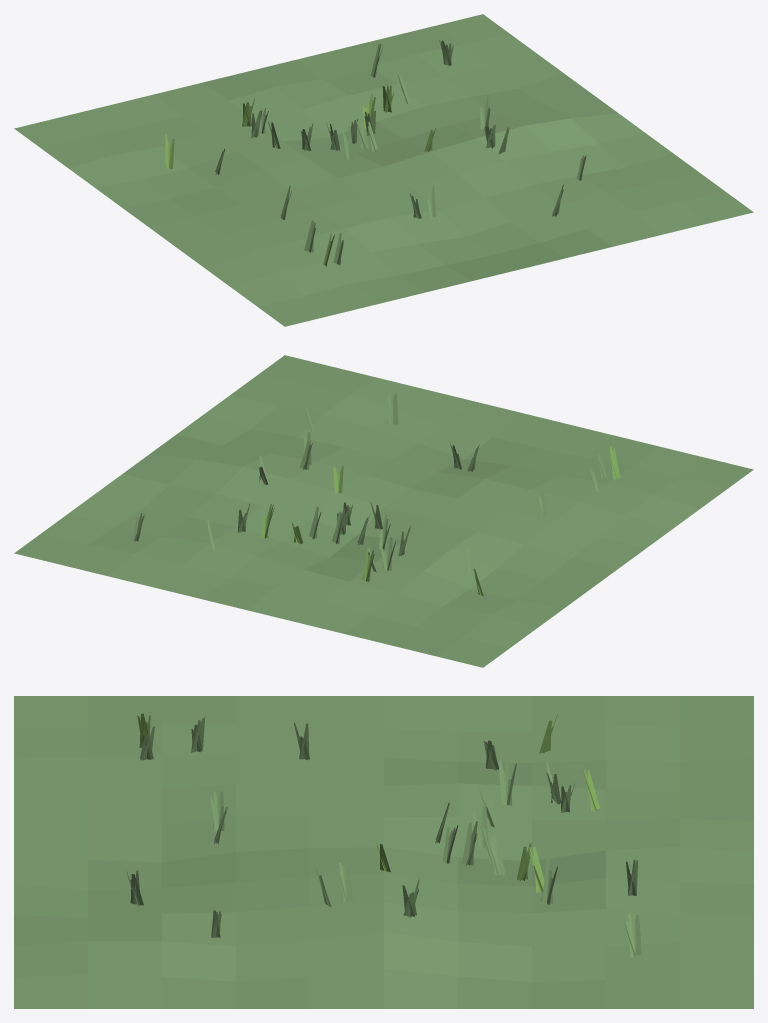
The model's file is grass_lowpoly_b.glb.
3 renders of one model, top to bottom at view 1: azimuth 30°, elevation 25°; view 2: azimuth 150°, elevation 25°; view 3: azimuth 270°, elevation 25°, orthographic. The views are drawn at different scales.
Visible parts, largest first — view 1: GrassTile; view 2: GrassTile; view 3: GrassTile.
Part boxes in pixels (x1=…): GrassTile: x1=14, y1=14, x2=753, y2=326; GrassTile: x1=14, y1=355, x2=753, y2=667; GrassTile: x1=14, y1=696, x2=753, y2=1008.
Bounding box in the file's own units: 1 × 0.092 × 1.
